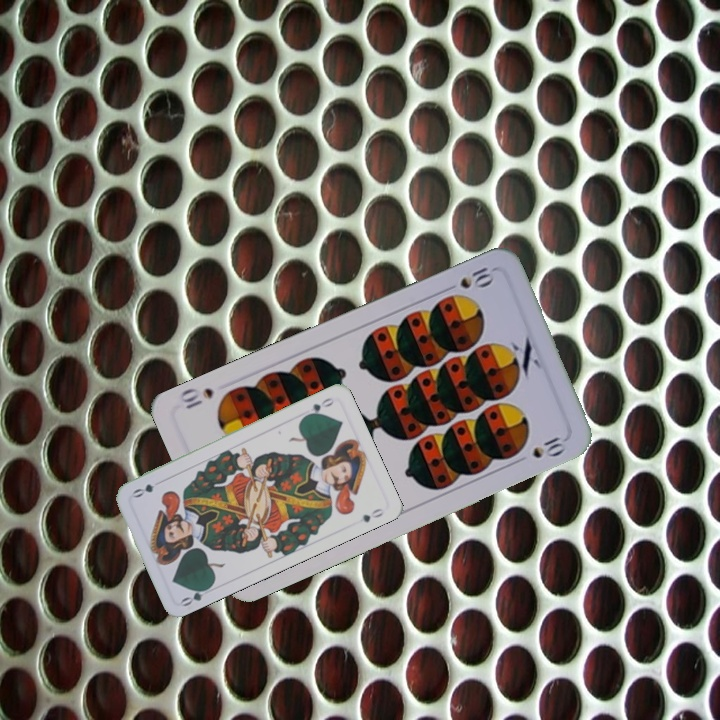GO: (177, 581, 215, 609), (300, 393, 337, 420)
S10: (456, 262, 497, 292)
